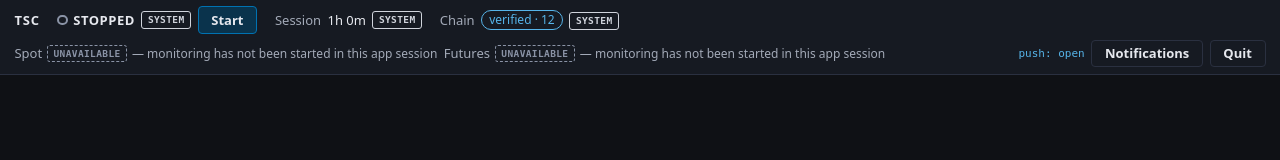
StatusBar › prevents a second start while the request is pending
Later steps or results of the test are not shown.
Click the button "Start" at (227, 20), box [198, 6, 257, 34]
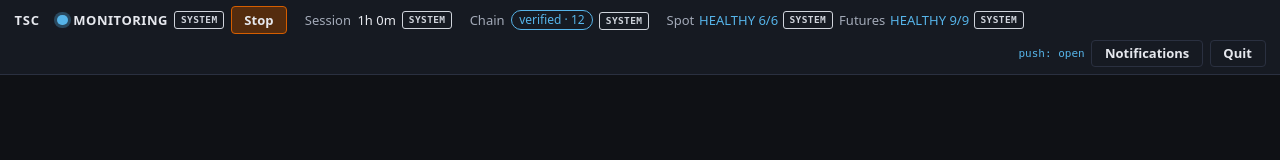
Expected: the button "Stop" is enabled, [230, 6, 287, 34]
Now the button "Start" is gone
